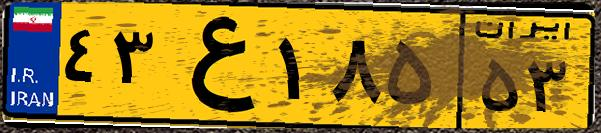1: (270, 28, 330, 110)
3: (525, 38, 570, 115), (110, 28, 158, 98)
4: (57, 26, 110, 100)
5: (385, 28, 445, 110), (475, 38, 525, 113)
8: (330, 28, 385, 110)
ع: (158, 12, 270, 120)
